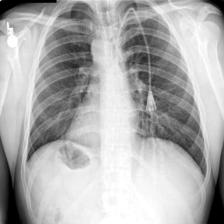normal: (22, 3, 210, 183)
